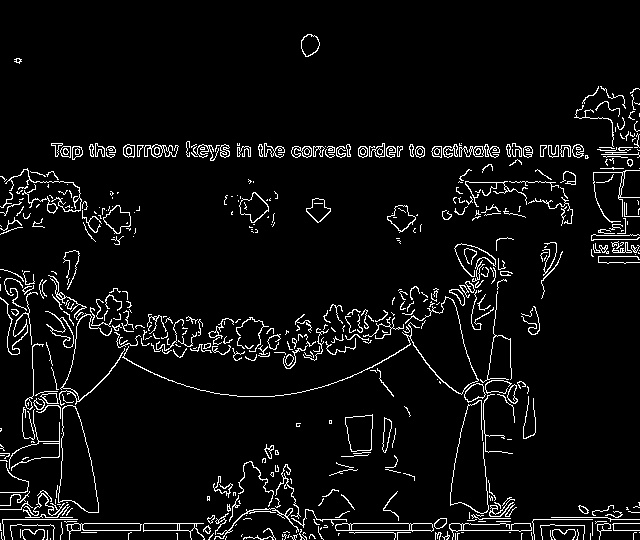down: (380, 197, 422, 240), (301, 192, 336, 231)
left: (95, 199, 144, 244)
right: (232, 186, 279, 230)
